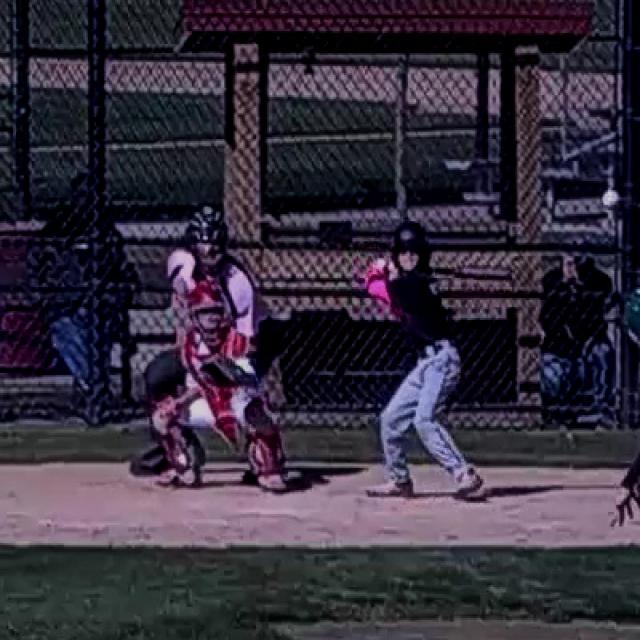baseball: (604, 192, 619, 206)
